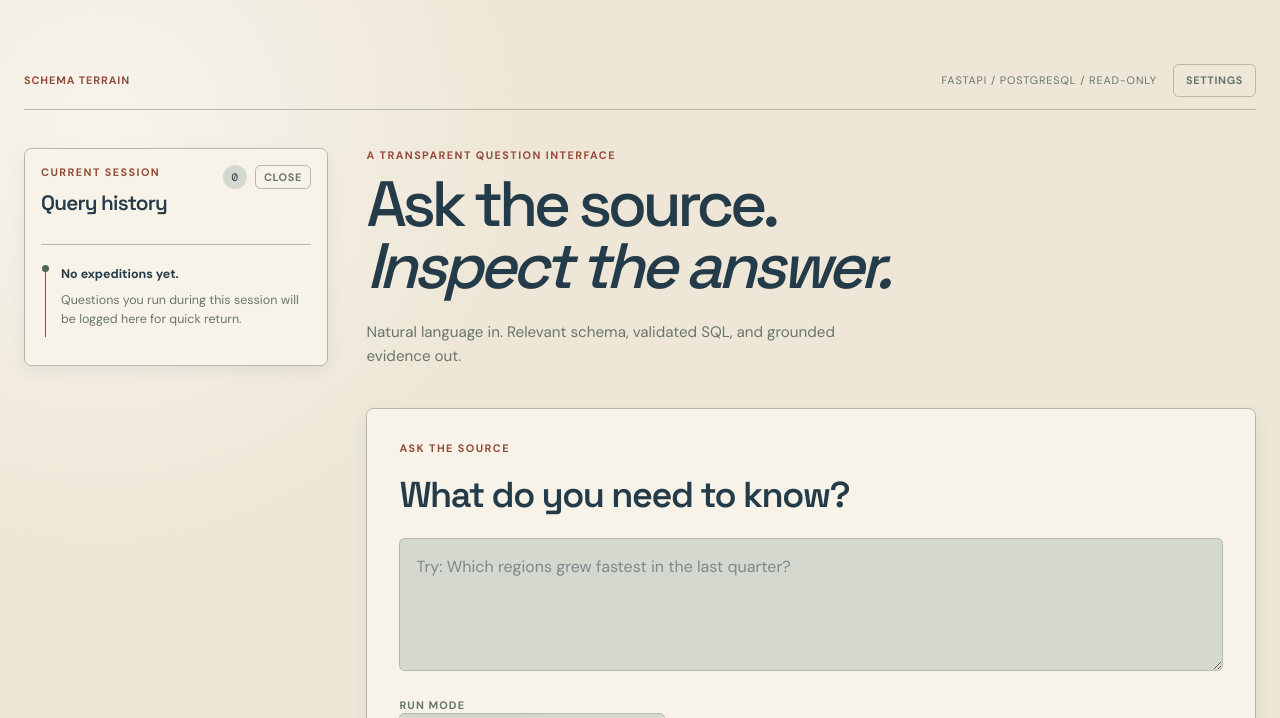
Test: Milestone 10 application › shows a safe error and restores controls after a failed request
Type "Show the latest report" into the text box named "natural-language question". click: coordinates (811, 604)
box: top-left (399, 538), bottom-right (1223, 671)
(page scrolled)
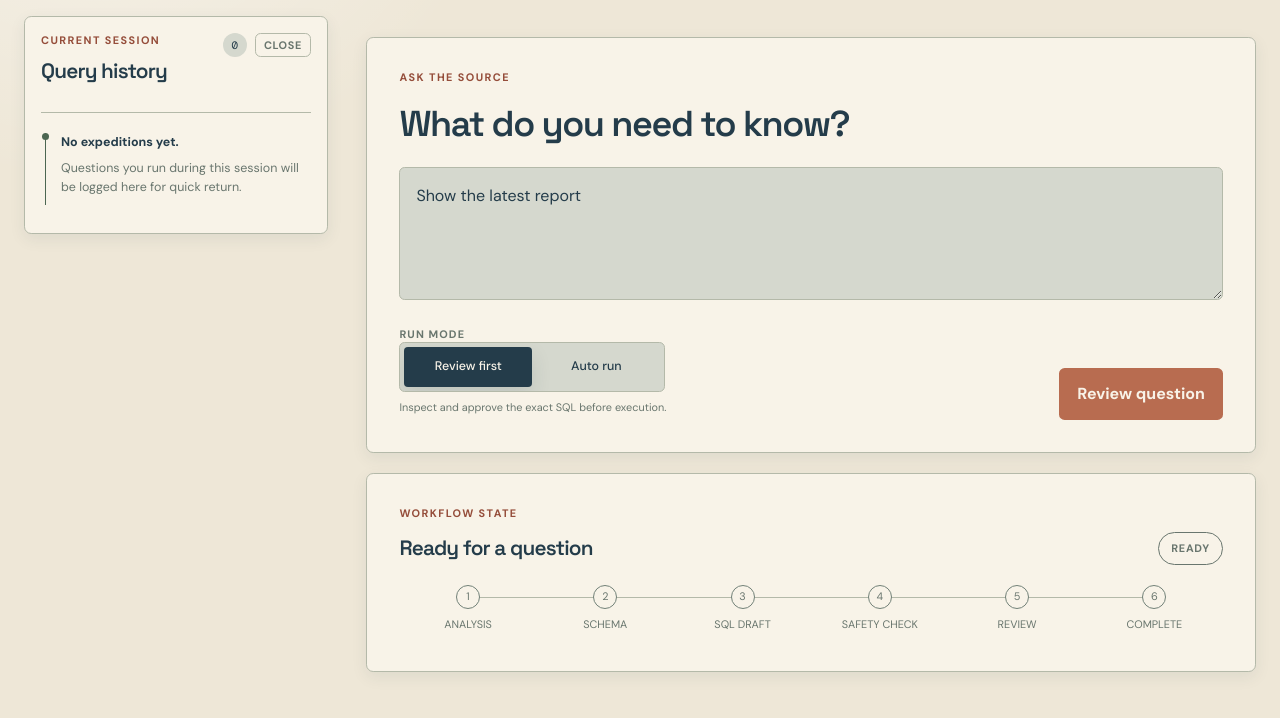
Click the button "Review question". click: coordinates (1141, 394)
box: top-left (1059, 368), bottom-right (1223, 420)
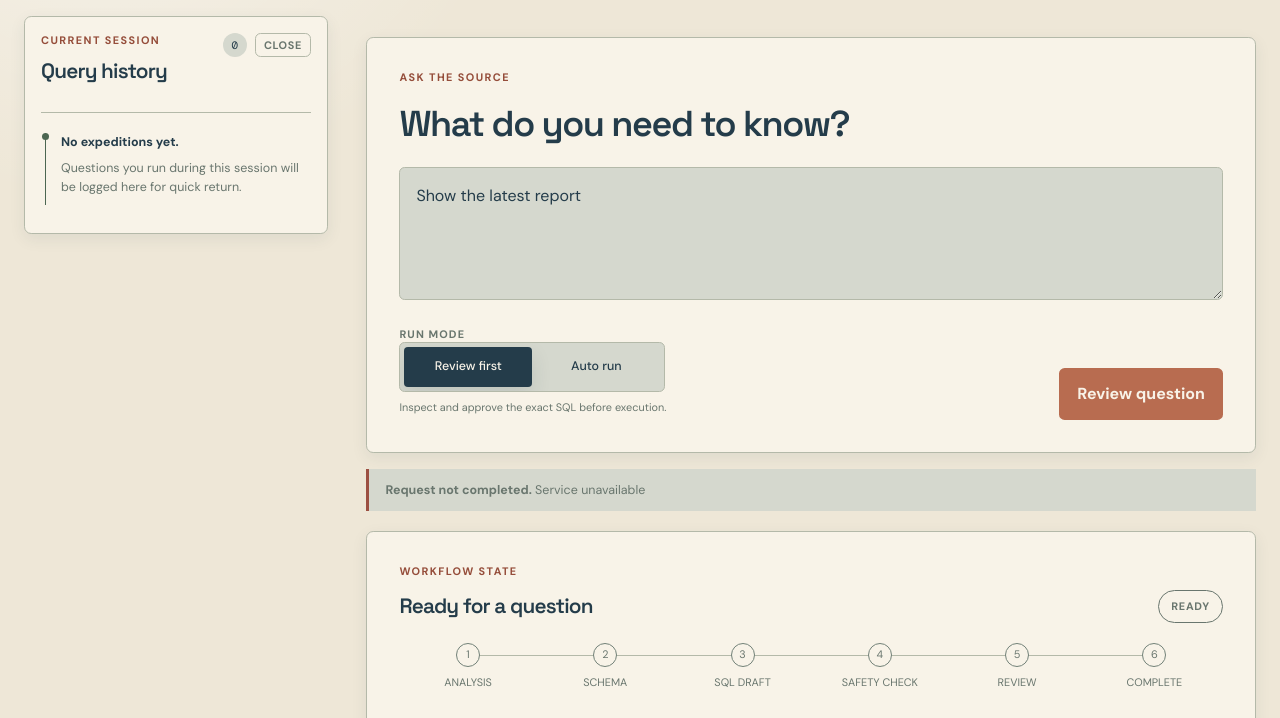
Now the button "Review question" is enabled, box top-left (1059, 368), bottom-right (1223, 420)
Now the message shows "Service unavailable", box top-left (535, 482), bottom-right (645, 498)
